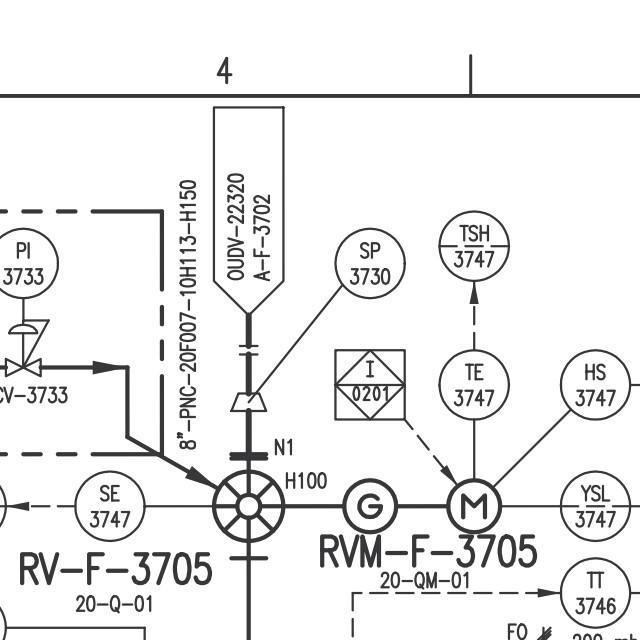PCV: (0, 309, 55, 384)
RV1: (210, 466, 285, 545)
RVM: (339, 472, 506, 533)
SP: (226, 386, 270, 417)
